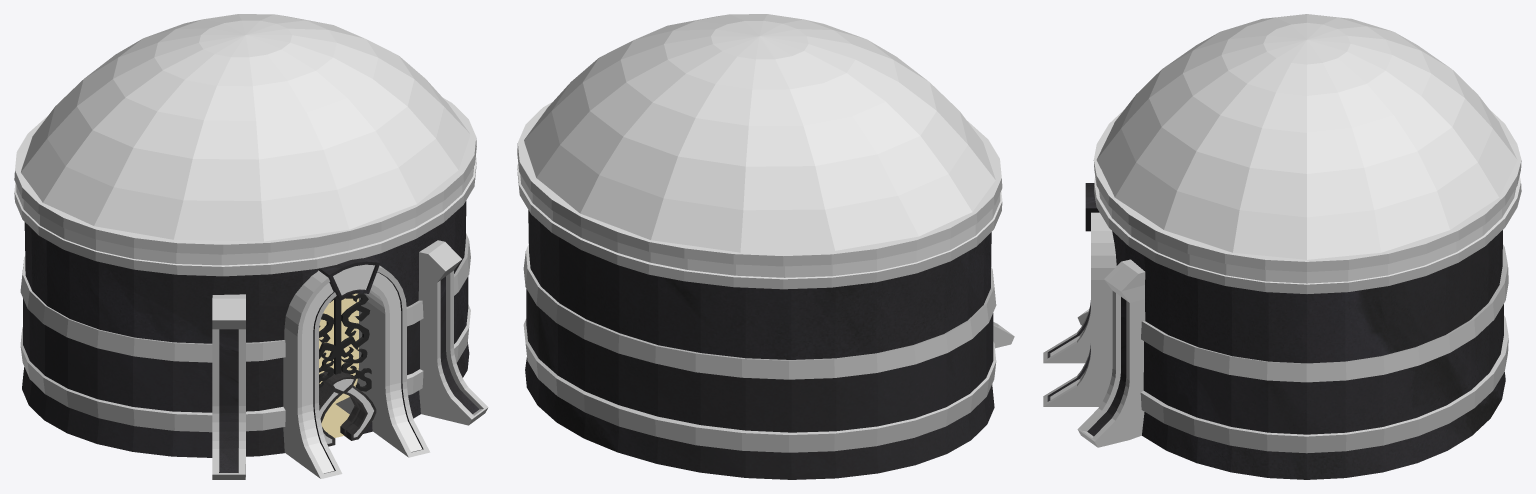
3 views of the same model, side by side, from view 1: azimuth 30°, elevation 25°; view 2: azimuth 150°, elevation 25°; view 3: azimuth 270°, elevation 25° (orthographic). The views are drawn at different scales.
Parts seen in each view (by area): view 1: cupula.001; view 2: cupula.001; view 3: cupula.001.
Part boxes in pixels (x1,y1,x2,y2): cupula.001: (14, 14, 488, 479); cupula.001: (517, 14, 1014, 479); cupula.001: (1043, 14, 1521, 479).
Size of the model in its own units: 73.47 by 56.97 by 72.43.
